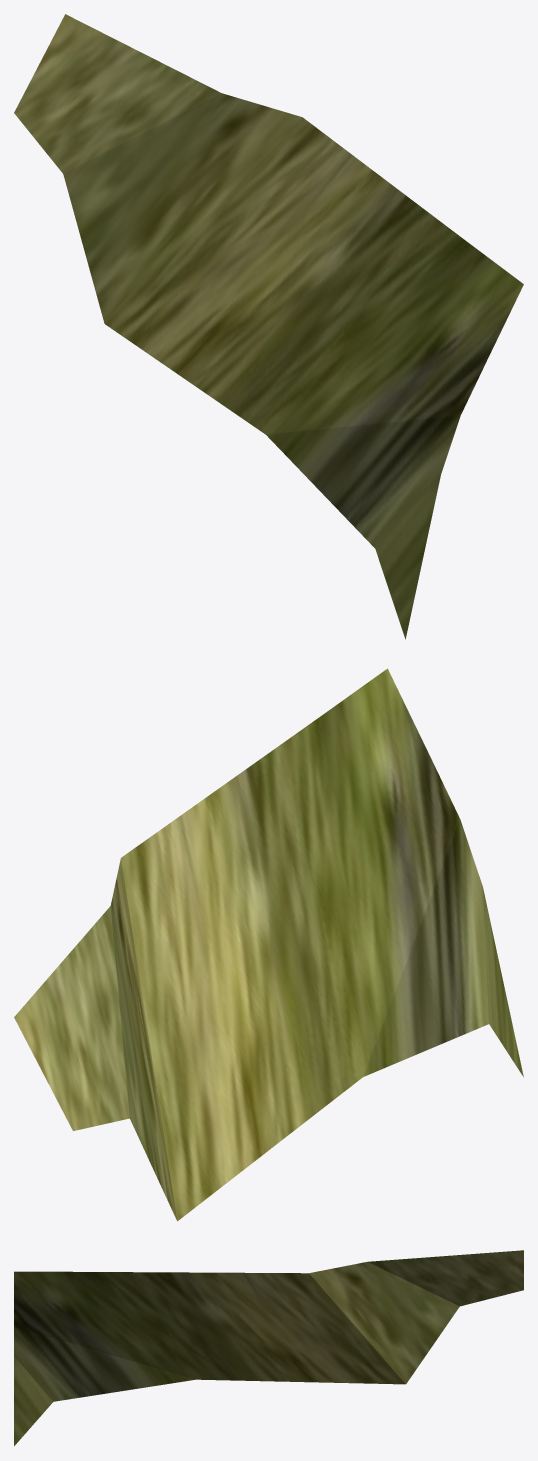
3 views of the same model, one above another, from view 1: azimuth 30°, elevation 25°; view 2: azimuth 150°, elevation 25°; view 3: azimuth 270°, elevation 25° (orthographic). The views are drawn at different scales.
Size of the model in its own units: 0.5372 by 1.36 by 2.95.
Materials: 1 (1 with a texture image).
